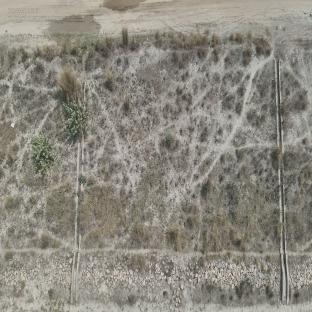rock_toe: (79, 254, 280, 304), (0, 253, 72, 302), (289, 256, 312, 299)
slope_drain: (274, 59, 290, 306), (70, 82, 86, 305)
vegetation: (58, 68, 88, 138), (29, 132, 58, 173)
